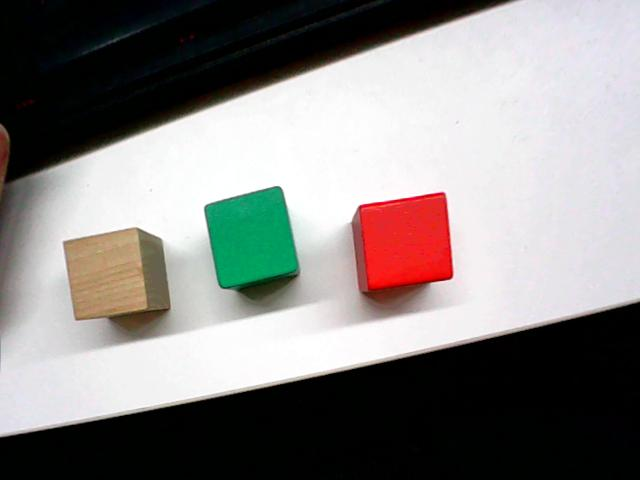green_box: (201, 182, 302, 292)
raw_box: (60, 223, 172, 322)
red_box: (348, 187, 457, 296)
